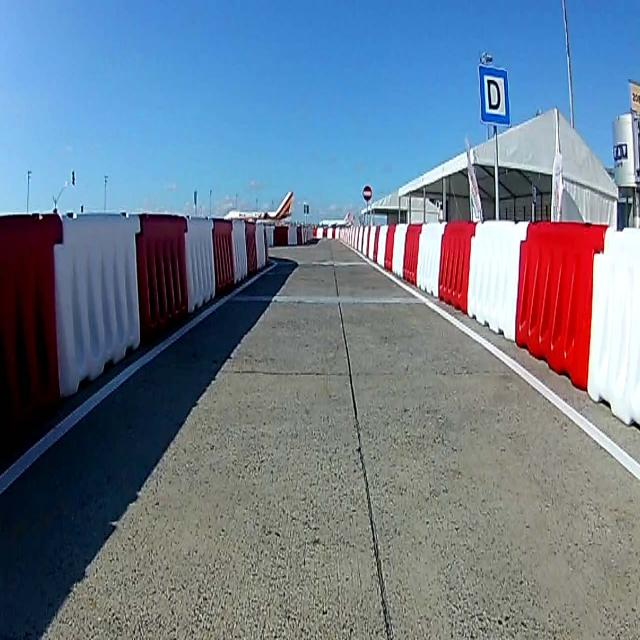durak: (479, 66, 511, 125)
girisyok: (362, 183, 372, 202)
